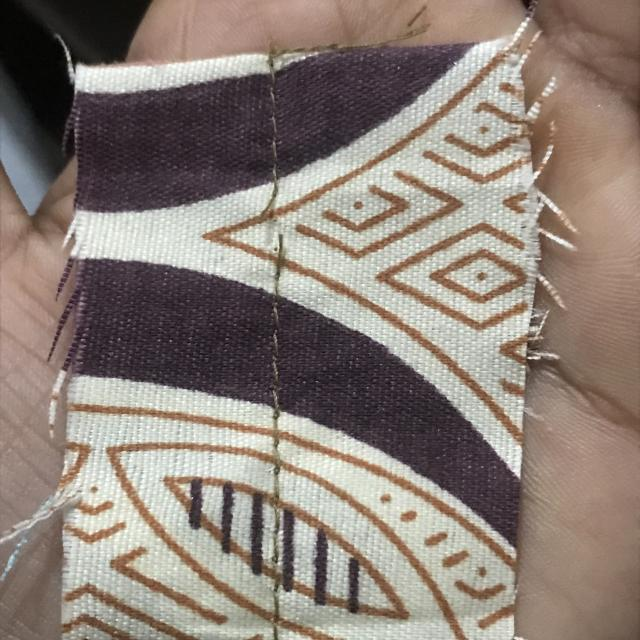broken: (254, 161, 314, 283)
good: (253, 326, 294, 527)
